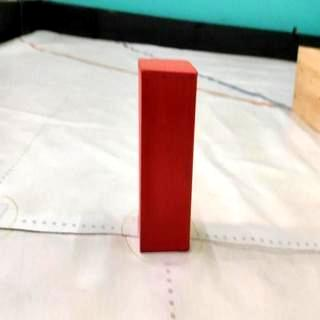redbox: (137, 56, 197, 254)
